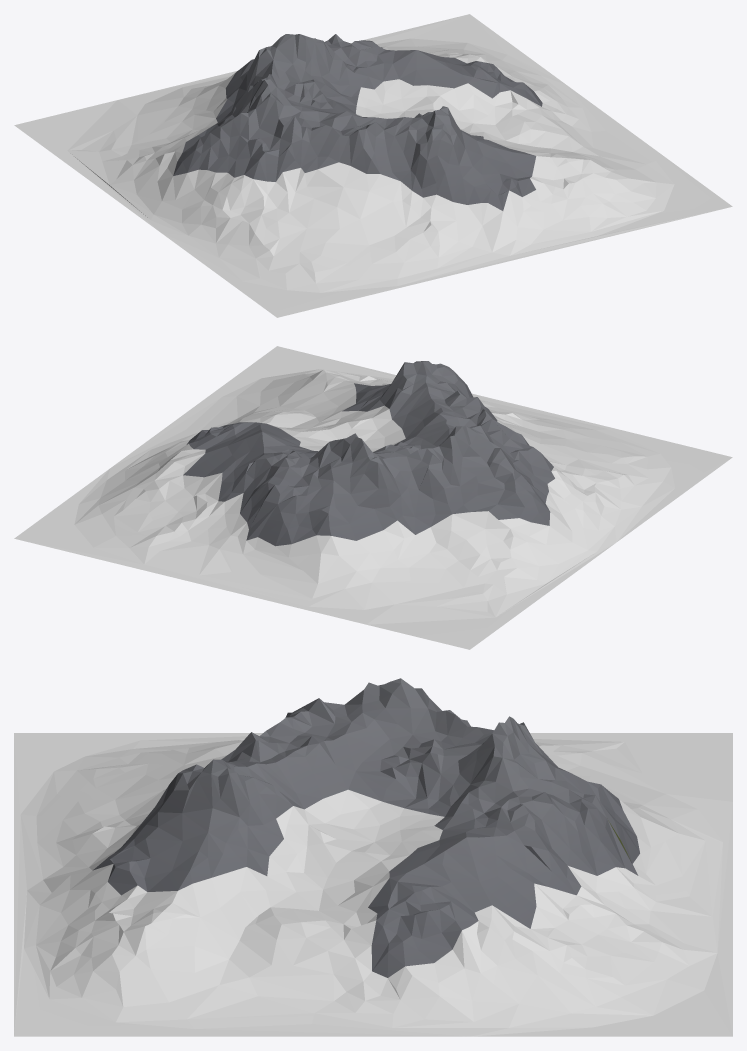
The model's file is Landscape_03.fbx.
3 views of the same model, one above another, from view 1: azimuth 30°, elevation 25°; view 2: azimuth 150°, elevation 25°; view 3: azimuth 270°, elevation 25° (orthographic). The views are drawn at different scales.
Visible parts, largest first — view 1: Landscape_03; view 2: Landscape_03; view 3: Landscape_03.
Part boxes in pixels (x1,y1,x2,y2): Landscape_03: [14, 14, 732, 317]; Landscape_03: [14, 346, 732, 649]; Landscape_03: [14, 678, 732, 1036].
Bounding box in the file's own units: 10000 × 2207 × 10000.
